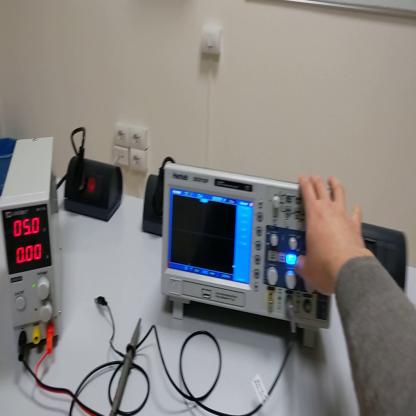hand: (294, 171, 368, 294)
oscilloscope: (161, 163, 331, 352)
oscilloscope probe tip: (111, 317, 142, 416)
power supply: (2, 138, 62, 343)
socket: (62, 157, 124, 226), (142, 176, 167, 239)
